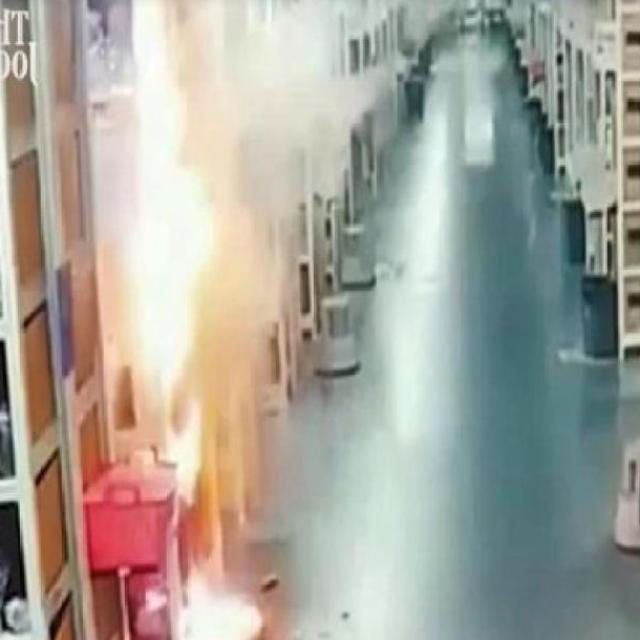smoke: (87, 51, 260, 498), (153, 527, 272, 640)
